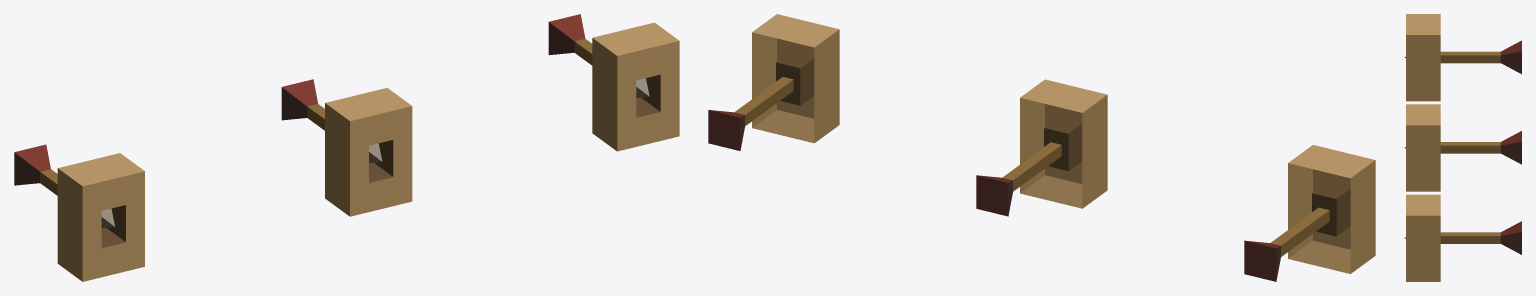
File: ST_Prop_Trap_Darts_01.fbx
The picture shows the model from 3 angles, left to right: view 1: azimuth 30°, elevation 25°; view 2: azimuth 150°, elevation 25°; view 3: azimuth 270°, elevation 25°; orthographic projection. The views are drawn at different scales.
Visible parts, largest first — view 1: ST_Prop_Trap_Darts_01, ST_Prop_Trap_Darts_Attachment_01; view 2: ST_Prop_Trap_Darts_01, ST_Prop_Trap_Darts_Attachment_01; view 3: ST_Prop_Trap_Darts_01, ST_Prop_Trap_Darts_Attachment_01.
Boxes of the visible parts, box(x1,y1,x2,y2) form: ST_Prop_Trap_Darts_01: box(57, 22, 679, 281); ST_Prop_Trap_Darts_Attachment_01: box(14, 14, 649, 228); ST_Prop_Trap_Darts_01: box(752, 14, 1375, 273); ST_Prop_Trap_Darts_Attachment_01: box(708, 77, 1329, 281); ST_Prop_Trap_Darts_01: box(1406, 14, 1440, 281); ST_Prop_Trap_Darts_Attachment_01: box(1404, 40, 1521, 254).
Bounding box in the file's own units: 3.55 × 0.5426 × 0.8747.
